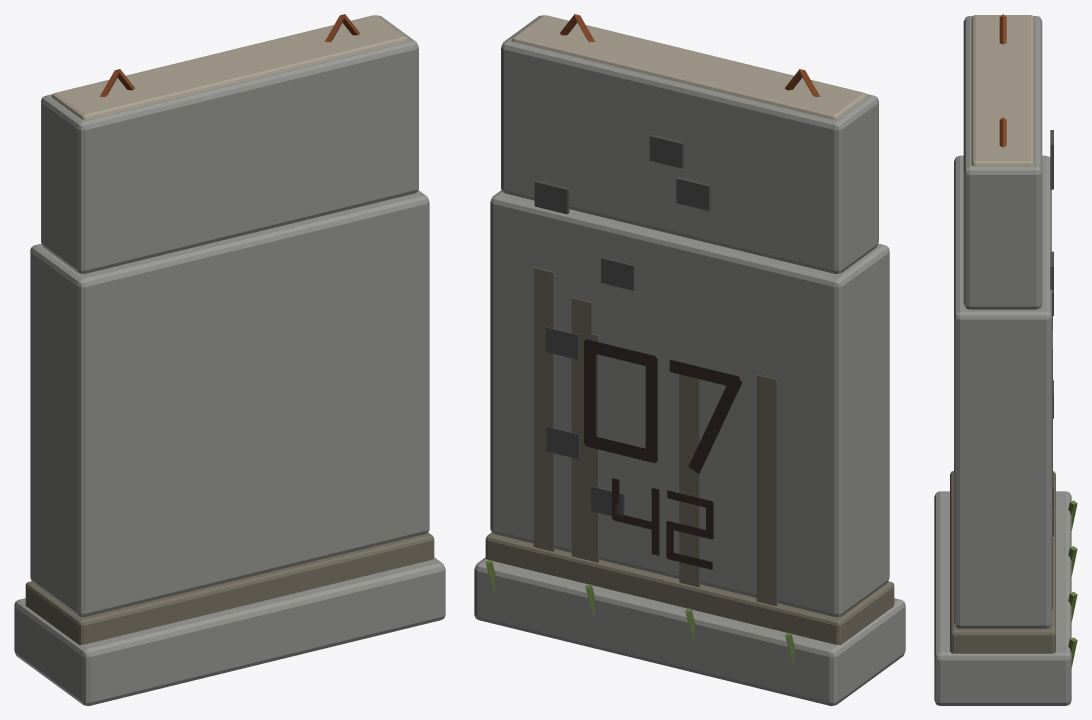
File: concrete_barrier.glb
3 views of the same model, side by side, from view 1: azimuth 30°, elevation 25°; view 2: azimuth 150°, elevation 25°; view 3: azimuth 270°, elevation 25° (orthographic). The views are drawn at different scales.
Parts seen in each view (by area): view 1: concrete_barrier; view 2: concrete_barrier; view 3: concrete_barrier.
Boxes of the visible parts, x1=… form: concrete_barrier: x1=14, y1=14, x2=445, y2=705; concrete_barrier: x1=474, y1=14, x2=905, y2=705; concrete_barrier: x1=934, y1=14, x2=1077, y2=705.
Size of what is drawn, in the model's own units: 2 by 3.14 by 0.7297.
3 materials, 3 textured.
